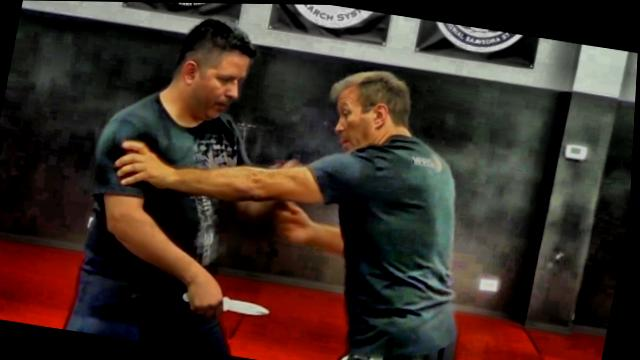knife: (177, 280, 284, 323)
